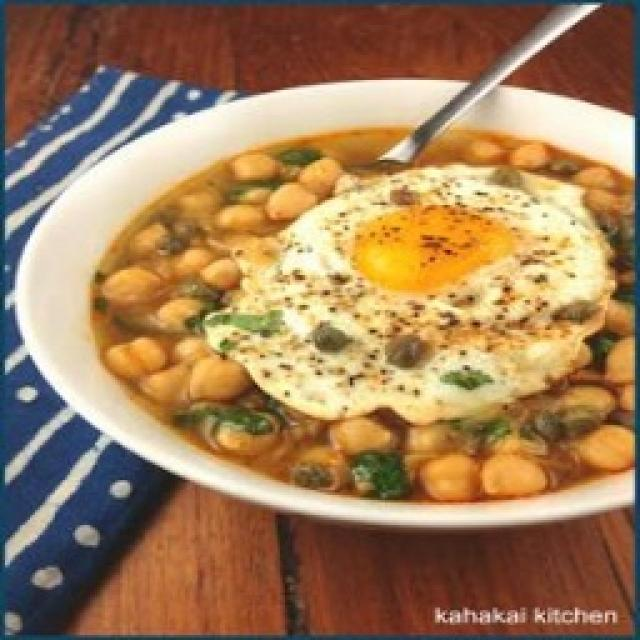Lablabi: (91, 129, 632, 501)
